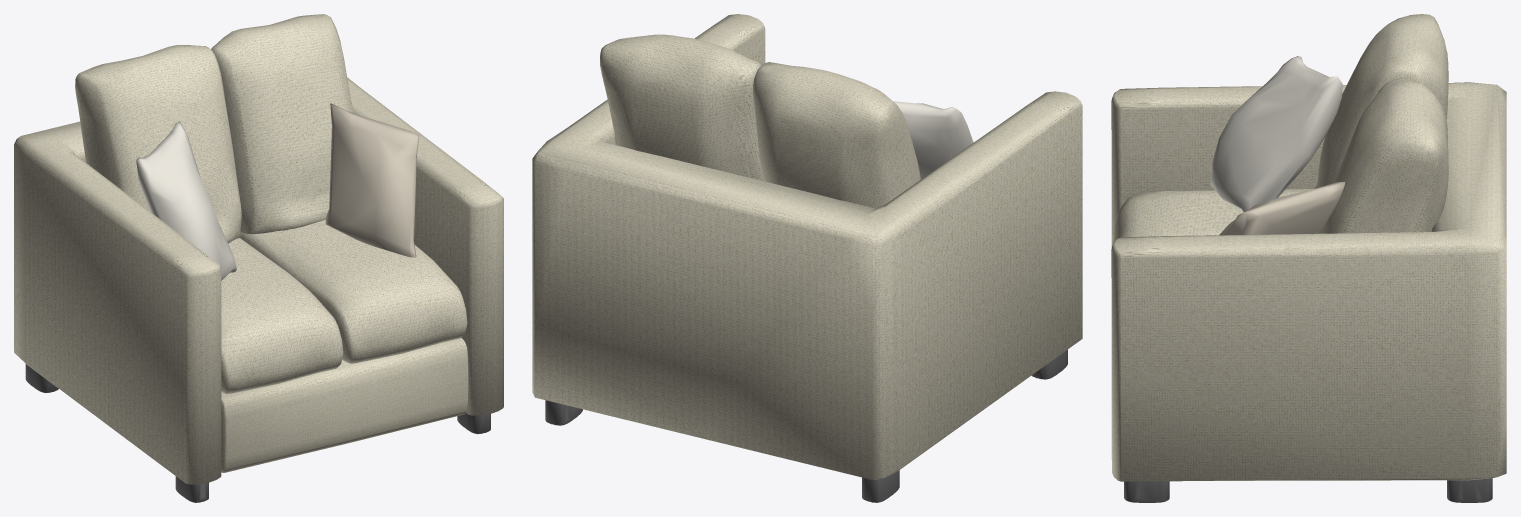
File: sh-scopia-burlap-sofa.glb
The picture shows the model from 3 angles, left to right: view 1: azimuth 30°, elevation 25°; view 2: azimuth 150°, elevation 25°; view 3: azimuth 270°, elevation 25°; orthographic projection. The views are drawn at different scales.
Visible parts, largest first — view 1: base_big_cushion2_Cube.001, cushion_dark_Cube.018, cushion_clear_Cube.019, leg4_Cylinder.014; view 2: base_big_cushion2_Cube.001, cushion_clear_Cube.019, leg4_Cylinder.014; view 3: base_big_cushion2_Cube.001, cushion_clear_Cube.019, cushion_dark_Cube.018, leg4_Cylinder.014.
Boxes of the visible parts, left/top/right/bottom form: base_big_cushion2_Cube.001: left=14, top=14, right=503, bottom=484; cushion_dark_Cube.018: left=325, top=103, right=419, bottom=257; cushion_clear_Cube.019: left=136, top=121, right=236, bottom=280; leg4_Cylinder.014: left=25, top=364, right=490, bottom=502; base_big_cushion2_Cube.001: left=532, top=14, right=1082, bottom=479; cushion_clear_Cube.019: left=893, top=101, right=973, bottom=179; leg4_Cylinder.014: left=545, top=349, right=1067, bottom=502; base_big_cushion2_Cube.001: left=1111, top=14, right=1506, bottom=481; cushion_clear_Cube.019: left=1210, top=56, right=1342, bottom=212; cushion_dark_Cube.018: left=1219, top=182, right=1345, bottom=235; leg4_Cylinder.014: left=1124, top=478, right=1492, bottom=502.
Bounding box in the file's own units: 1 × 1 × 1.
4 materials, 1 textured.
